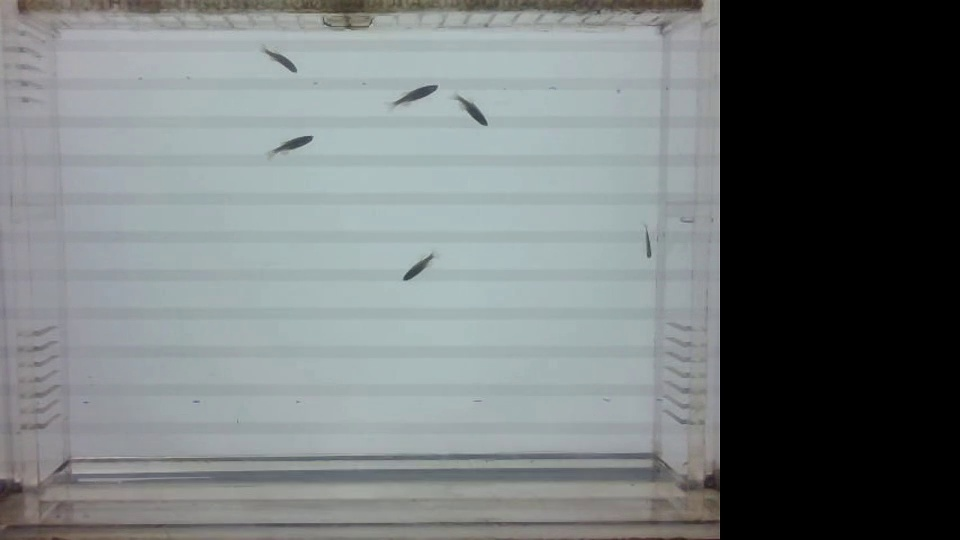fish: (380, 76, 438, 112), (444, 88, 490, 132), (392, 248, 436, 284), (254, 42, 300, 76), (260, 128, 313, 156), (636, 216, 656, 266)
